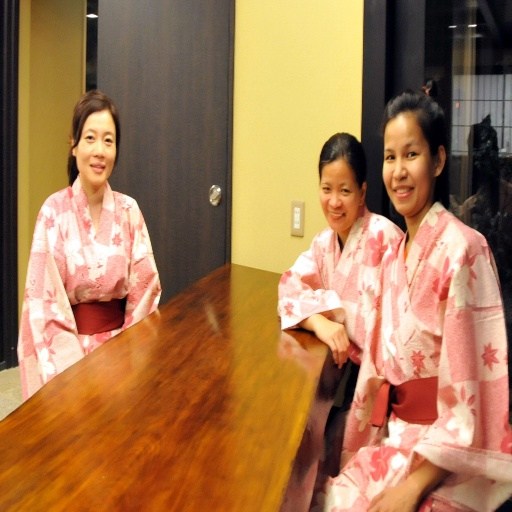hand: (313, 314, 358, 370), (362, 483, 414, 511)
